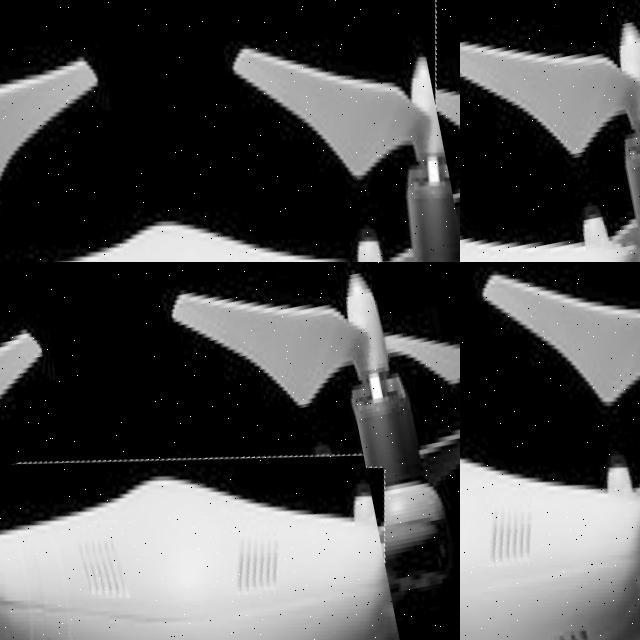drone: (0, 0, 460, 262), (0, 398, 436, 640), (460, 262, 640, 640)
